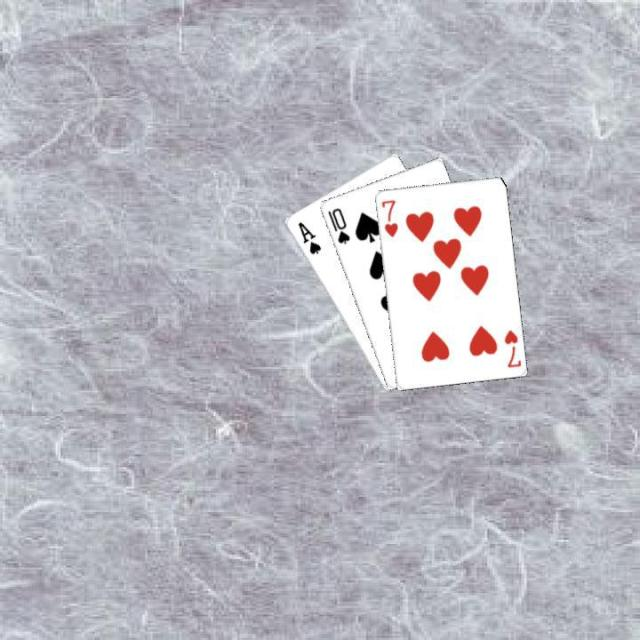10S: (324, 204, 351, 246)
7H: (500, 325, 522, 369), (378, 196, 399, 239)
AS: (293, 218, 323, 256)
